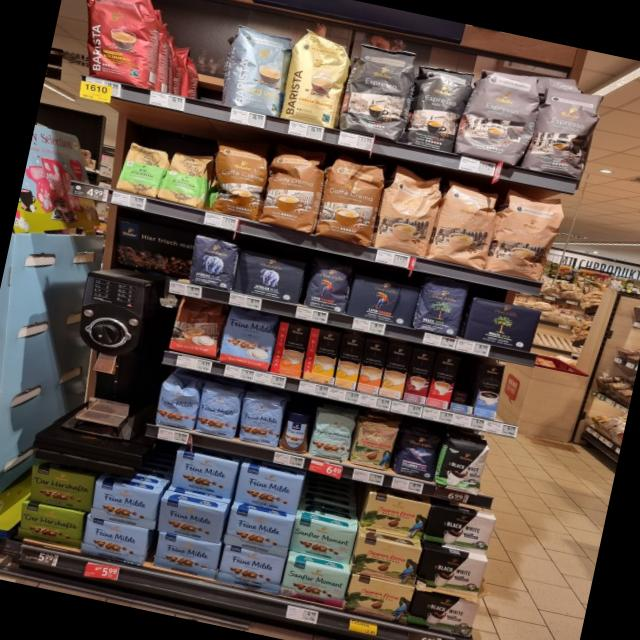AB Bohne: (185, 232, 241, 290)
AB Gemahlen: (231, 250, 306, 304)
Athiopien Gemahlen: (158, 146, 211, 209), (115, 138, 168, 198)
BM Bohne: (463, 294, 543, 352), (412, 278, 470, 339)
BW Bohne: (437, 436, 490, 496)
BW Gemahlen: (422, 503, 497, 556), (407, 586, 480, 638), (415, 546, 488, 598)
Barista CB: (278, 24, 356, 130)
Barista CC: (217, 21, 296, 118)
Barista Kolumbien: (69, 0, 169, 88)
C Fino Bohne: (392, 424, 444, 482)
CC Mild: (488, 185, 568, 284), (428, 175, 504, 271), (371, 162, 444, 258)
CC Vollmundig: (168, 294, 226, 358)
CC Vollmundig 36 Pads: (314, 152, 388, 248), (256, 142, 329, 235), (200, 134, 274, 222)
Colombia BB Bohne: (349, 418, 399, 472)
Colombia BB Gemahlen: (342, 572, 414, 624), (350, 534, 422, 586), (361, 490, 431, 540)
Empty Shelf: (150, 4, 234, 102), (452, 358, 481, 406)
Espresso Aromatisch: (456, 67, 544, 167), (527, 82, 603, 182)
Espresso Kraftig: (340, 42, 421, 142), (402, 61, 472, 153)
FM 36 Pads: (218, 306, 280, 372)
FM Bohne: (234, 393, 286, 448), (152, 377, 202, 431), (193, 385, 243, 439)
FM Gemahlen: (232, 463, 304, 516), (78, 514, 152, 565), (222, 506, 294, 558), (88, 480, 162, 530), (168, 448, 239, 499), (153, 496, 226, 544), (216, 544, 286, 594), (152, 530, 223, 578)
FM Instant: (278, 408, 314, 454)
Herzhatfe Mundig: (23, 462, 97, 512), (14, 500, 86, 550)
LG Bohne: (302, 256, 355, 314)
LG Gemahlen: (344, 276, 420, 328)
SM Bohne: (307, 408, 357, 462)
SM Gemahlen: (279, 557, 350, 608), (288, 516, 357, 566)
Simo CCMild: (300, 327, 342, 384)
Simo CCMild bigpack: (332, 336, 364, 389)
Simo CCVollmundig: (268, 321, 310, 378)
Simo CCVollmundig bigpack: (356, 340, 388, 395)
Simo Decaff: (379, 344, 412, 399)
Simo Es Brazil: (426, 354, 459, 411)
Simo Es Caramel: (402, 348, 435, 404)
Simo Es Vanilla: (470, 361, 506, 420)
